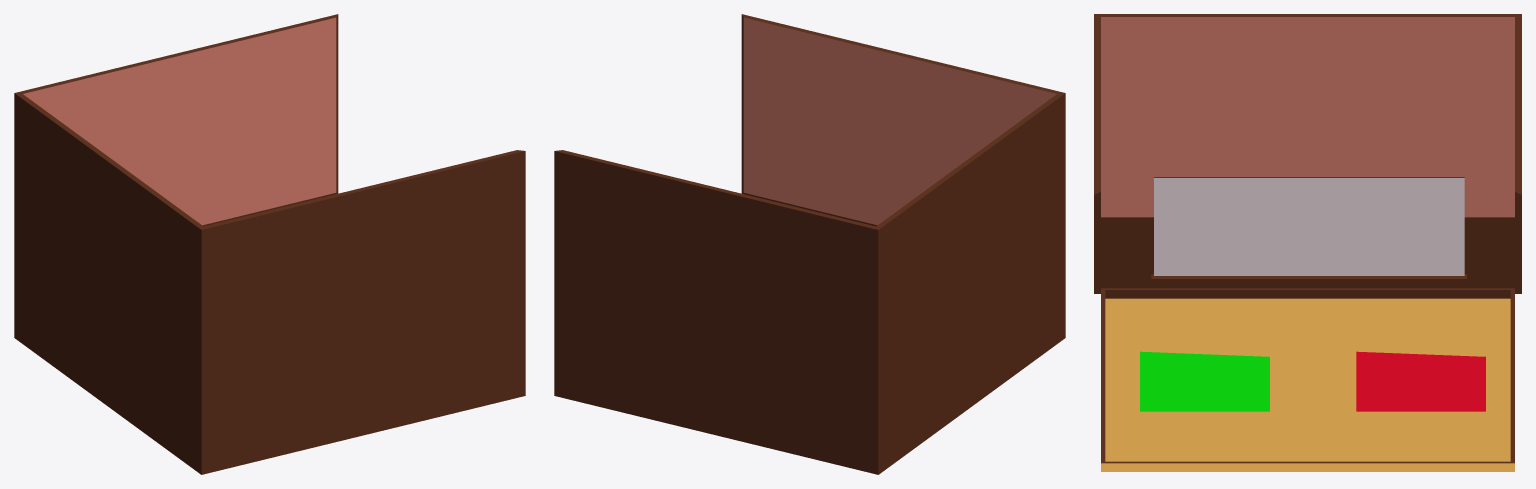
Rendered from soruCene.fbx.
3 renders of one model, left to right at view 1: azimuth 30°, elevation 25°; view 2: azimuth 150°, elevation 25°; view 3: azimuth 270°, elevation 25°, orthographic. The views are drawn at different scales.
Visible parts, largest first — view 1: Plane; view 2: Plane; view 3: Plane.
Part boxes in pixels (x1,y1,x2,y2): Plane: (14, 14, 525, 474); Plane: (554, 14, 1065, 474); Plane: (1094, 14, 1521, 471).
Bounding box in the file's own units: 2329 × 1682 × 2329.
